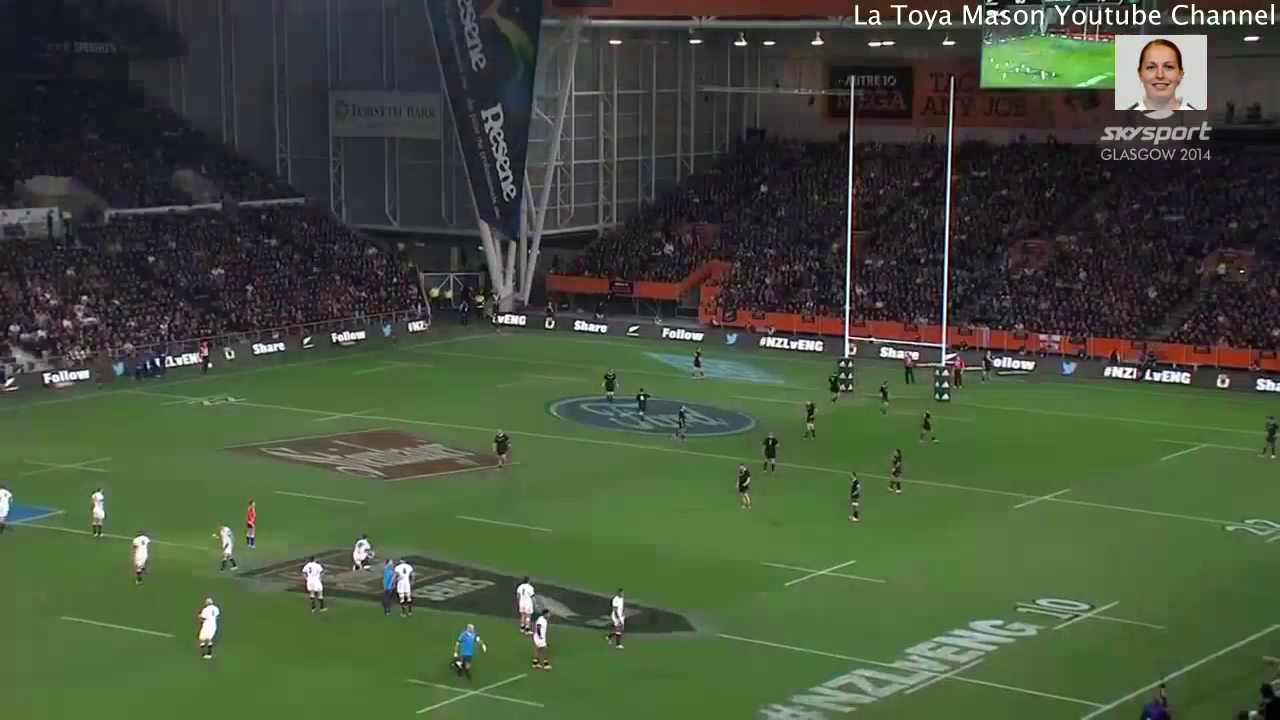10_metre: (1013, 589, 1172, 644), (755, 551, 893, 592), (5, 450, 117, 483)
player: (447, 619, 490, 684), (295, 552, 335, 618), (191, 591, 222, 670), (599, 585, 632, 654), (210, 520, 245, 579), (125, 528, 155, 588), (528, 607, 555, 672), (511, 572, 537, 639), (393, 550, 418, 619), (83, 483, 110, 544), (729, 459, 760, 512), (346, 529, 377, 577), (487, 422, 513, 477), (666, 399, 695, 445), (238, 494, 262, 548), (379, 553, 398, 619), (882, 444, 905, 497), (1255, 412, 1280, 460), (915, 404, 941, 448), (845, 469, 864, 526), (757, 429, 779, 478), (597, 363, 621, 406), (630, 383, 652, 423), (800, 399, 820, 442), (875, 378, 894, 419), (1, 483, 14, 536), (689, 345, 707, 381), (825, 367, 843, 403), (900, 349, 918, 385), (950, 354, 965, 392), (980, 347, 994, 386)
post: (828, 63, 958, 410)
